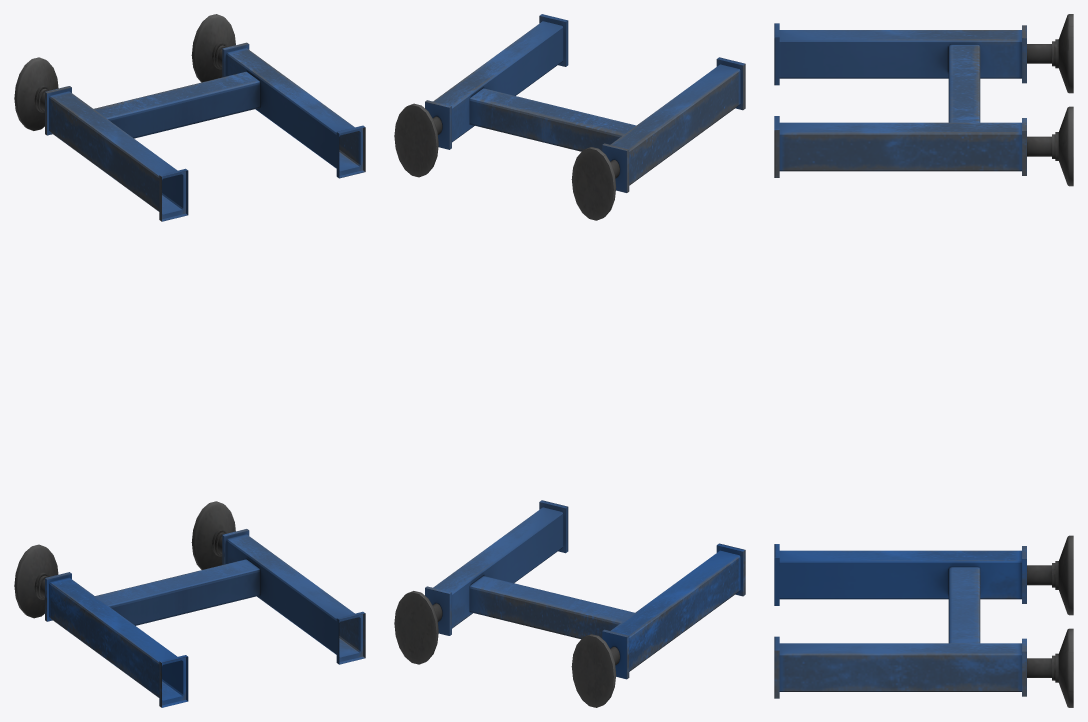
Rendered from conveyor6.dae.
3 views of the same model, side by side, from view 1: azimuth 30°, elevation 25°; view 2: azimuth 150°, elevation 25°; view 3: azimuth 270°, elevation 25° (orthographic). The views are drawn at different scales.
Visible parts, largest first — view 1: Conveyor01Legs_Conveyor_0.007; view 2: Conveyor01Legs_Conveyor_0.007; view 3: Conveyor01Legs_Conveyor_0.007.
Boxes of the visible parts, left/top/right/bottom form: Conveyor01Legs_Conveyor_0.007: left=14, top=14, right=365, bottom=707; Conveyor01Legs_Conveyor_0.007: left=394, top=14, right=745, bottom=707; Conveyor01Legs_Conveyor_0.007: left=774, top=14, right=1073, bottom=707.
Size of the model in its own units: 0.5126 by 0.5645 by 1.24.
1 material, 1 textured.
